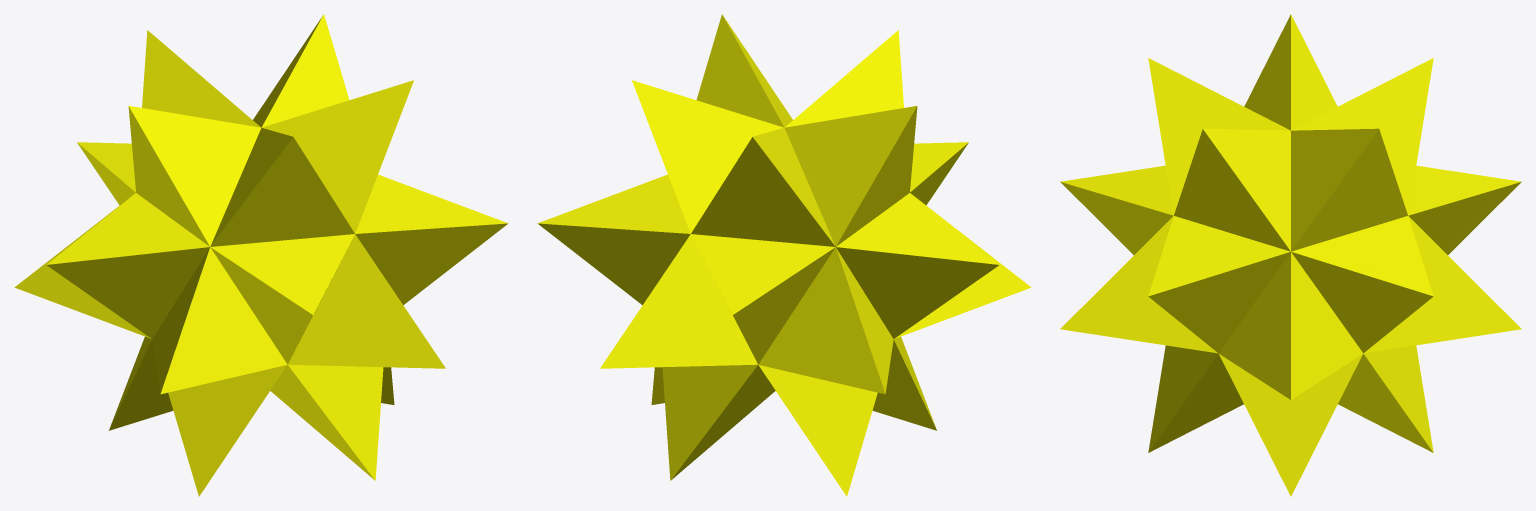
The model's file is Powerup.fbx.
The picture shows the model from 3 angles, left to right: view 1: azimuth 30°, elevation 25°; view 2: azimuth 150°, elevation 25°; view 3: azimuth 270°, elevation 25°; orthographic projection. The views are drawn at different scales.
Parts seen in each view (by area): view 1: PowerupShape; view 2: PowerupShape; view 3: PowerupShape.
Boxes of the visible parts, box(x1,y1,x2,y2) form: PowerupShape: box(14, 14, 508, 496); PowerupShape: box(537, 14, 1031, 496); PowerupShape: box(1060, 14, 1521, 496).
Size of the model in its own units: 353 by 285 by 335.
